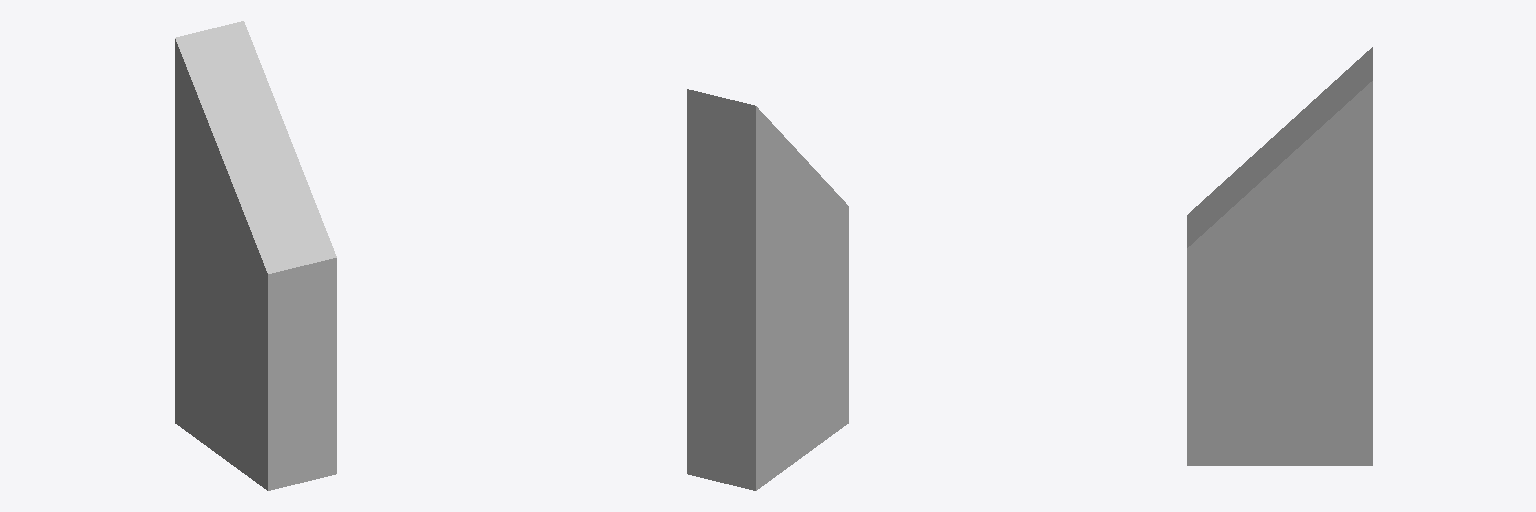
Rendered from fin_2__188134_.obj.
3 views of the same model, side by side, from view 1: azimuth 30°, elevation 25°; view 2: azimuth 150°, elevation 25°; view 3: azimuth 270°, elevation 25° (orthographic).
Parts seen in each view (by area): view 1: fin_2__188134__temp_fin_2__188134_.008; view 2: fin_2__188134__temp_fin_2__188134_.008; view 3: fin_2__188134__temp_fin_2__188134_.008.
Boxes of the visible parts, x1,y1,x2,y2 form: fin_2__188134__temp_fin_2__188134_.008: [175, 21, 336, 490]; fin_2__188134__temp_fin_2__188134_.008: [687, 89, 848, 490]; fin_2__188134__temp_fin_2__188134_.008: [1187, 47, 1372, 465].
Size of the model in its own units: 0.0381 by 0.2032 by 0.0889.